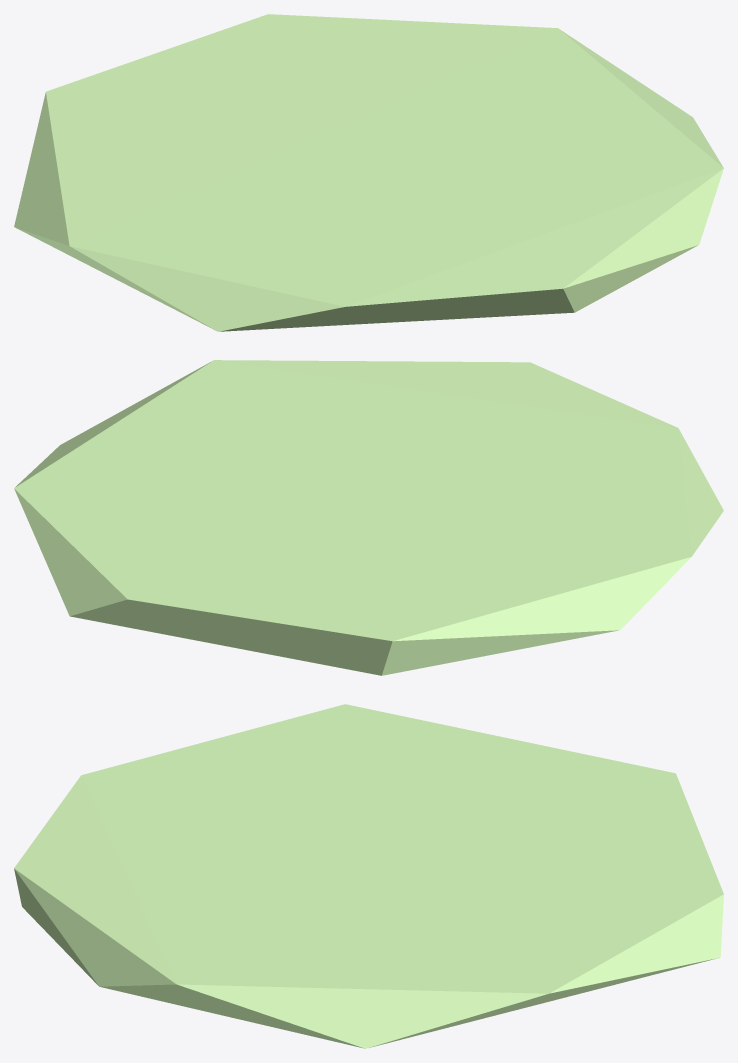
File: F_Lettuce.fbx
3 views of the same model, one above another, from view 1: azimuth 30°, elevation 25°; view 2: azimuth 150°, elevation 25°; view 3: azimuth 270°, elevation 25° (orthographic). The views are drawn at different scales.
Parts seen in each view (by area): view 1: Cylinder.001; view 2: Cylinder.001; view 3: Cylinder.001.
Boxes of the visible parts, box(x1,y1,x2,y2) form: Cylinder.001: box(14, 14, 723, 331); Cylinder.001: box(14, 360, 723, 675); Cylinder.001: box(14, 704, 723, 1048).
Size of the model in its own units: 14.44 by 0.7292 by 13.92.
